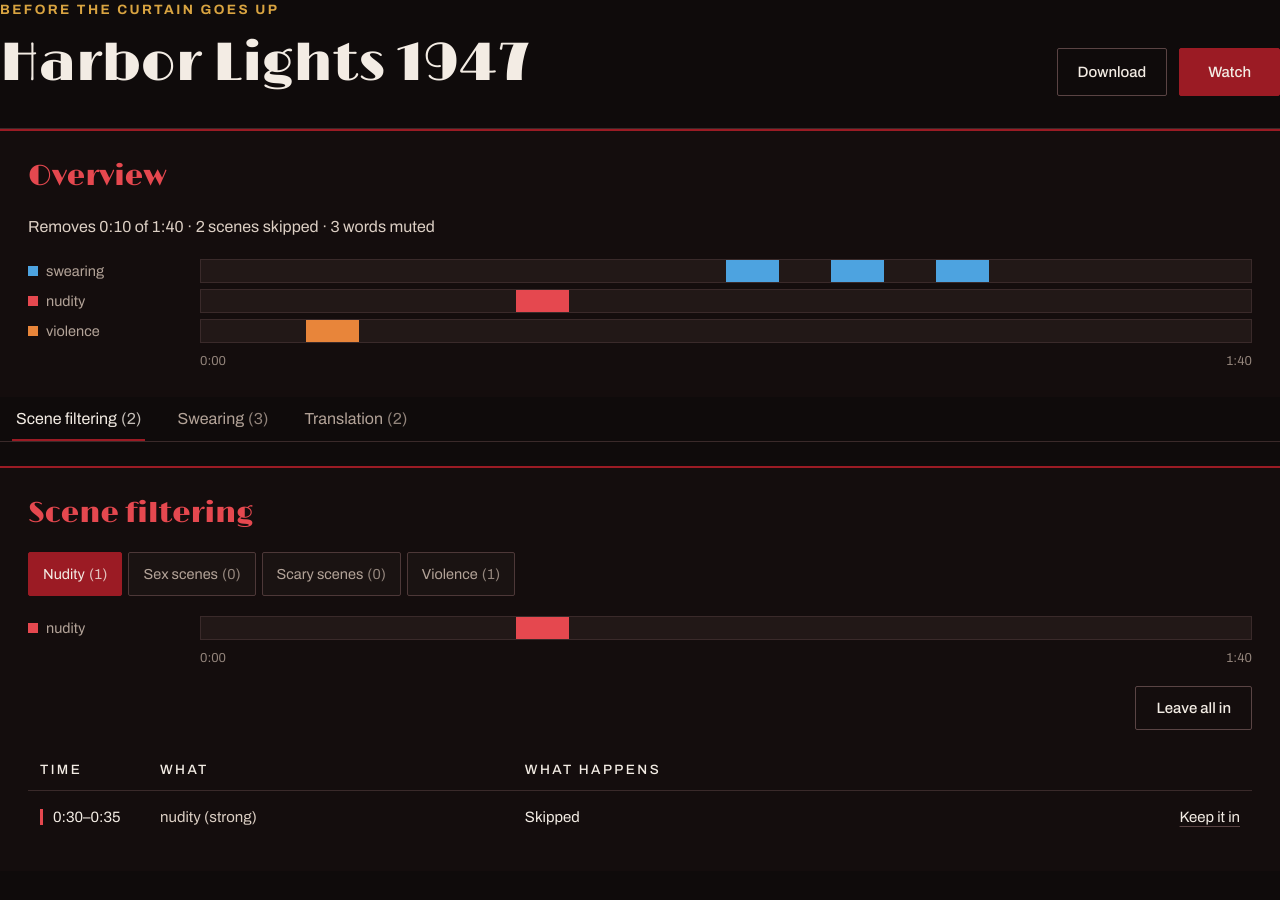
Test: ReviewPage leave in › groups swearing by severity, strongest first, with moderates together
Click the tab "Swearing (3)": (223,419) [162, 397, 284, 441]
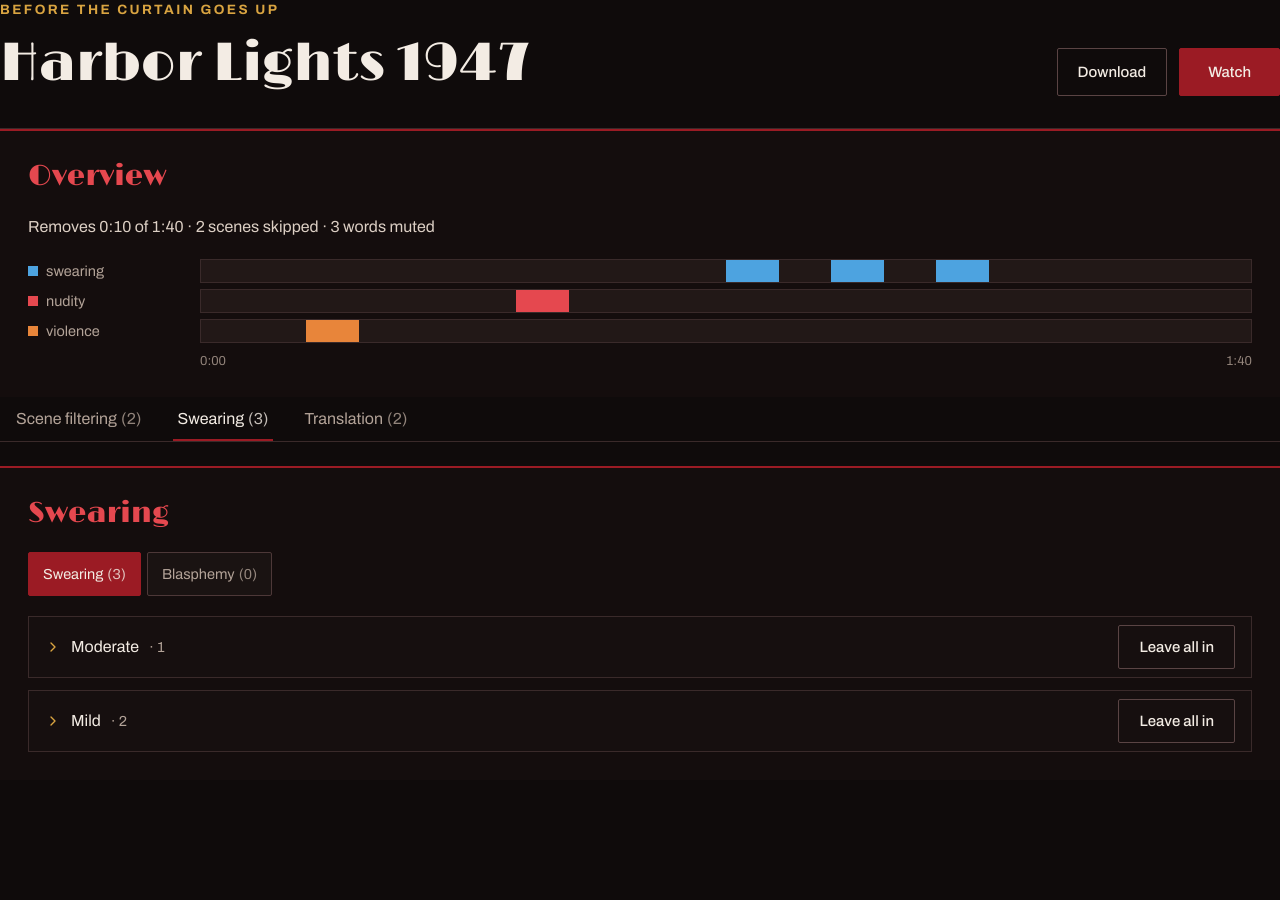
Expected: the text "“hell”" is not shown
Click the button "Mild · 2": (86,721) [45, 699, 127, 743]
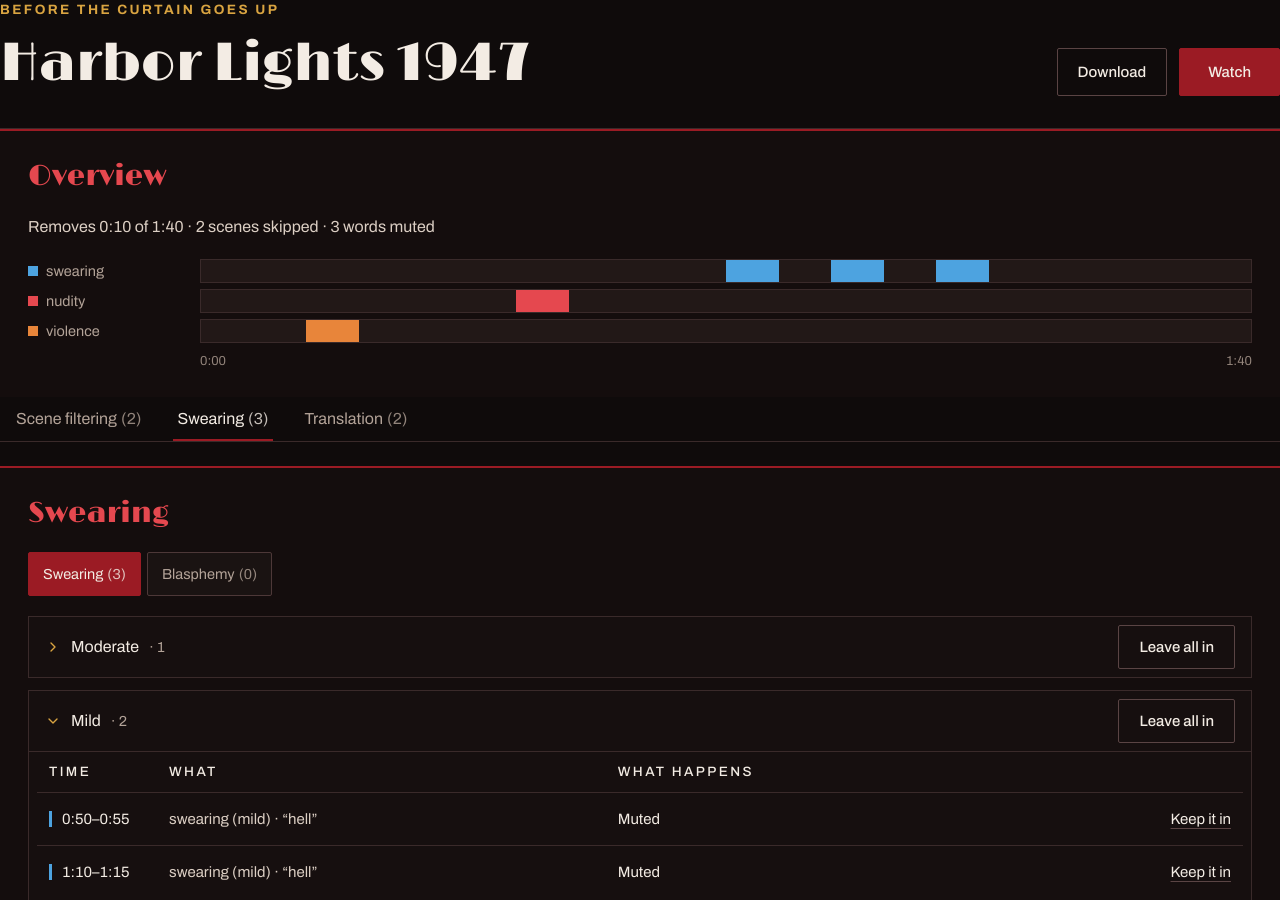
Expected: the text "swearing (mild) · “hell”" is shown 2 times, [157, 792, 606, 845]; [157, 845, 606, 898]
Click the button "Mild · 2": (86,721) [45, 699, 127, 743]
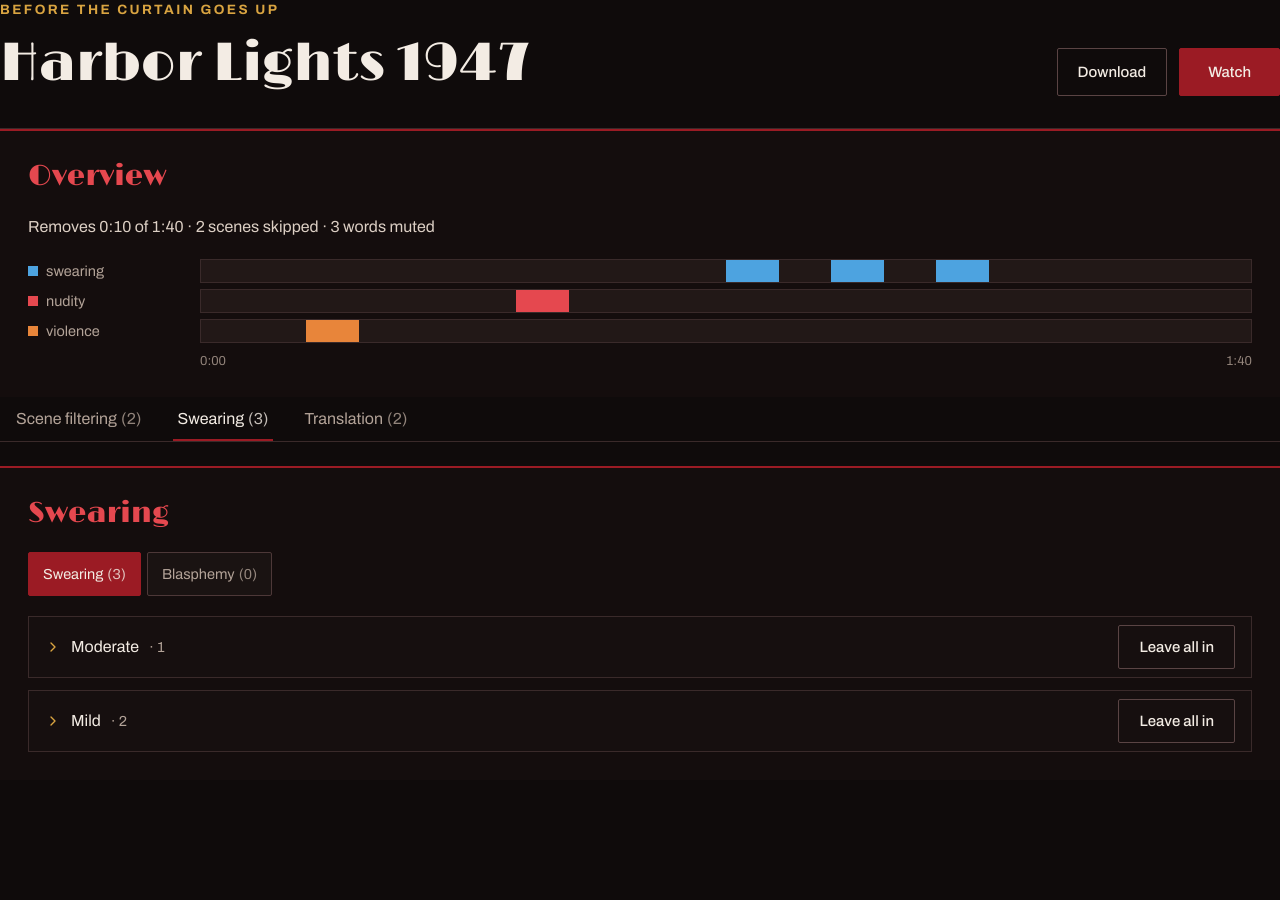
Expected: the text "“hell”" is gone
